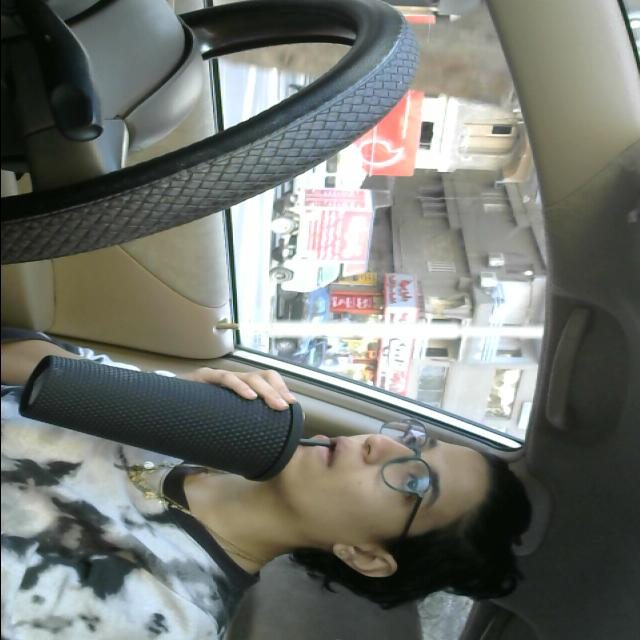drinking: (22, 355, 324, 485)
